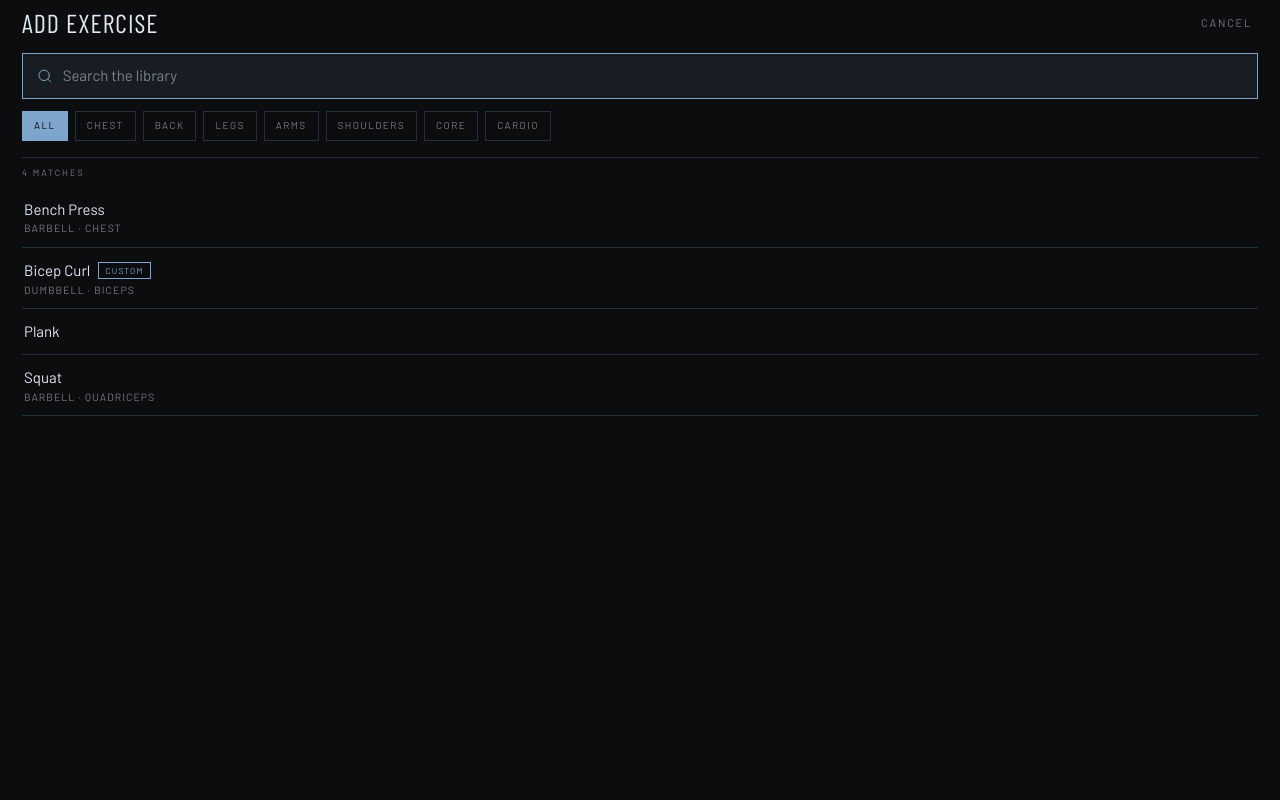
ExercisePicker › search › says when nothing matches
Expected: the text "4 matches" is shown, [22,156,1258,186]
Type "zzz" into the field with placeholder "Search the library".
click(653, 76); type("zzz")  # box [63,64,1243,88]
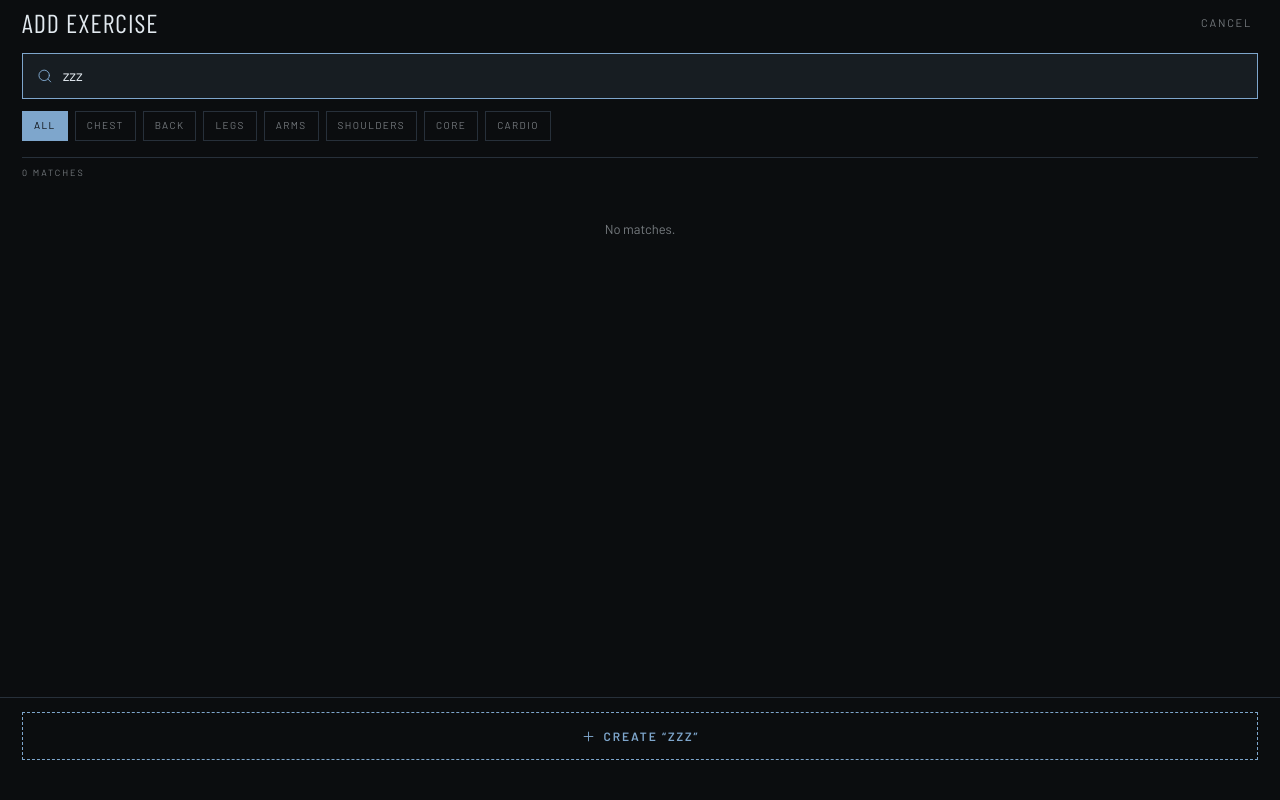
Now the text "No matches." is shown, box [605,220,675,236]
